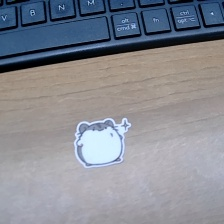mouse: (70, 117, 133, 167)
